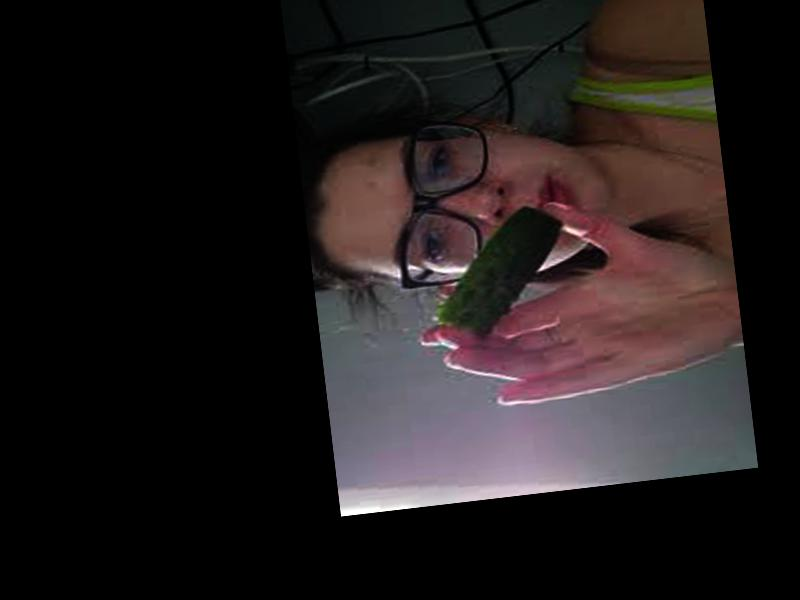Cucumber: (422, 203, 570, 337)
